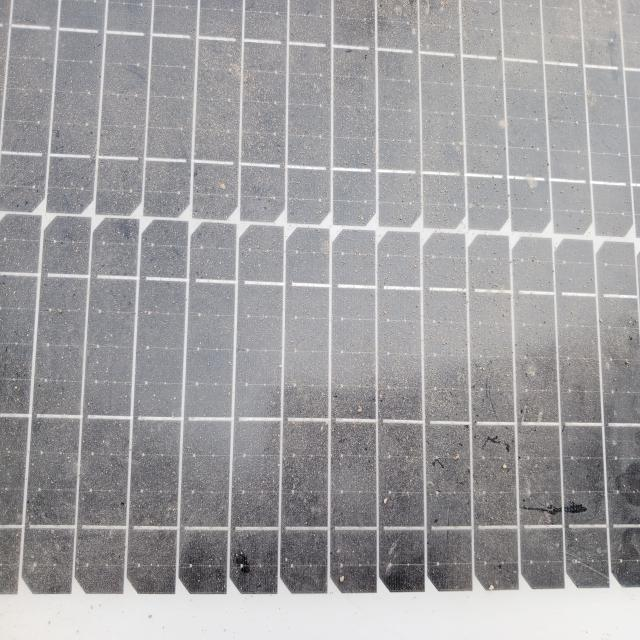Surface Contaminant: (9, 18, 635, 591)
